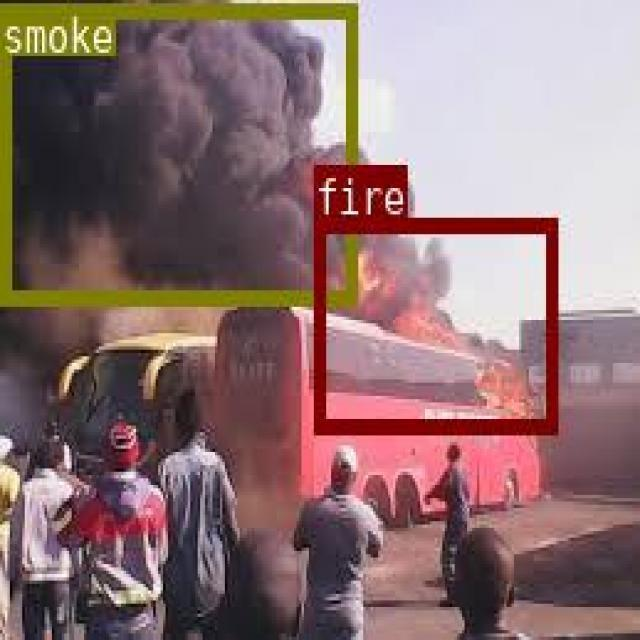fire: (313, 216, 556, 431)
smoke: (0, 2, 353, 302)
